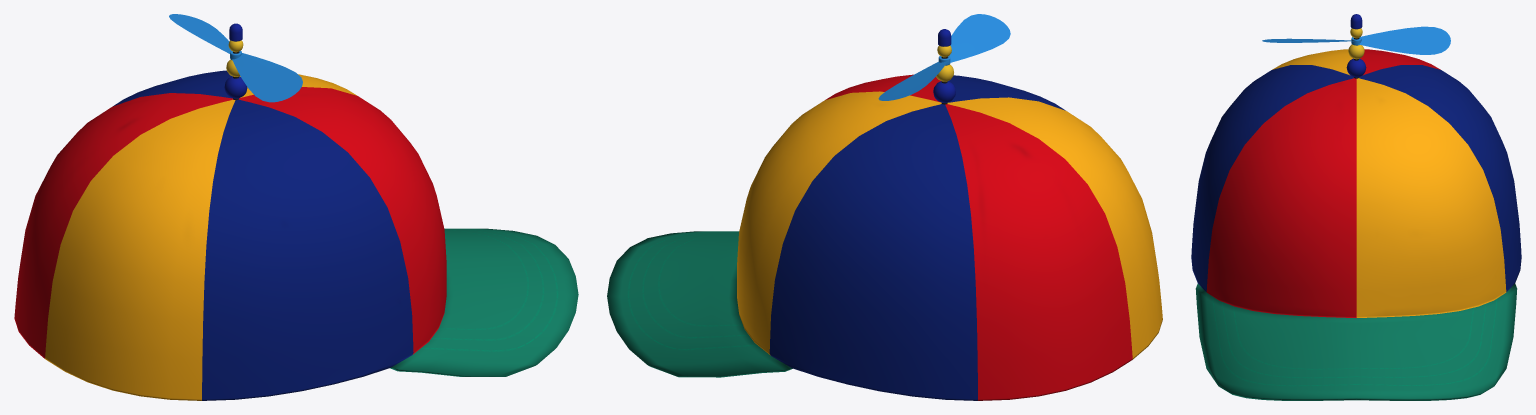
The model's file is propeller_cap.glb.
3 views of the same model, side by side, from view 1: azimuth 30°, elevation 25°; view 2: azimuth 150°, elevation 25°; view 3: azimuth 270°, elevation 25° (orthographic). The views are drawn at different scales.
Parts seen in each view (by area): view 1: Object_3, Object_4, Object_5, Object_2; view 2: Object_3, Object_4, Object_5, Object_2; view 3: Object_3, Object_4, Object_5, Object_2, Object_6.
Part boxes in pixels (left/top/right/bottom): Object_3: left=14, top=70, right=446, bottom=400; Object_4: left=390, top=228, right=578, bottom=376; Object_5: left=169, top=14, right=302, bottom=102; Object_2: left=224, top=23, right=247, bottom=98; Object_3: left=737, top=74, right=1162, bottom=400; Object_4: left=607, top=231, right=792, bottom=377; Object_5: left=878, top=14, right=1010, bottom=100; Object_2: left=933, top=29, right=955, bottom=102; Object_3: left=1191, top=49, right=1521, bottom=317; Object_4: left=1195, top=283, right=1517, bottom=400; Object_5: left=1262, top=26, right=1450, bottom=54; Object_2: left=1346, top=14, right=1366, bottom=77; Object_6: left=1348, top=28, right=1364, bottom=59.
Bounding box in the file's own units: 0.2415 × 0.1521 × 0.1607.
Materials: 6 (2 with a texture image).
